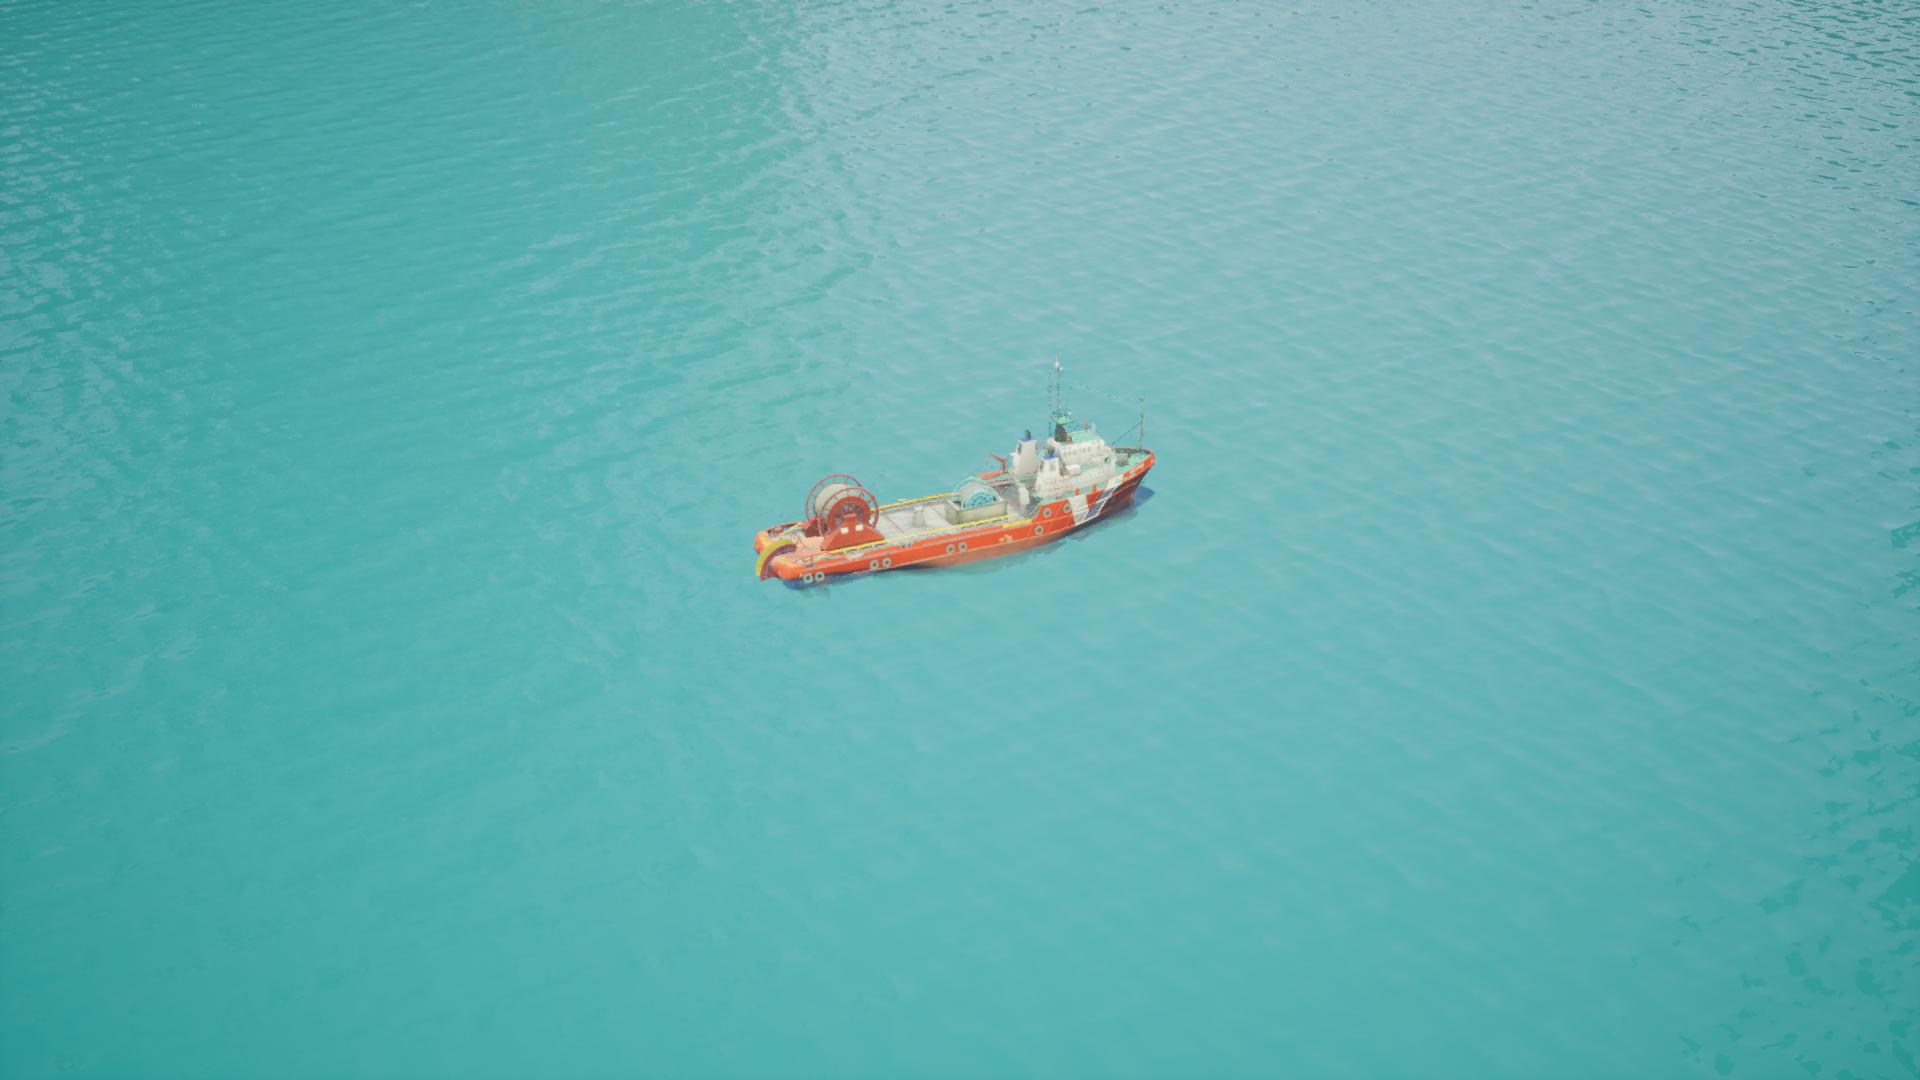Tug Boat: (705, 364, 1242, 642)
